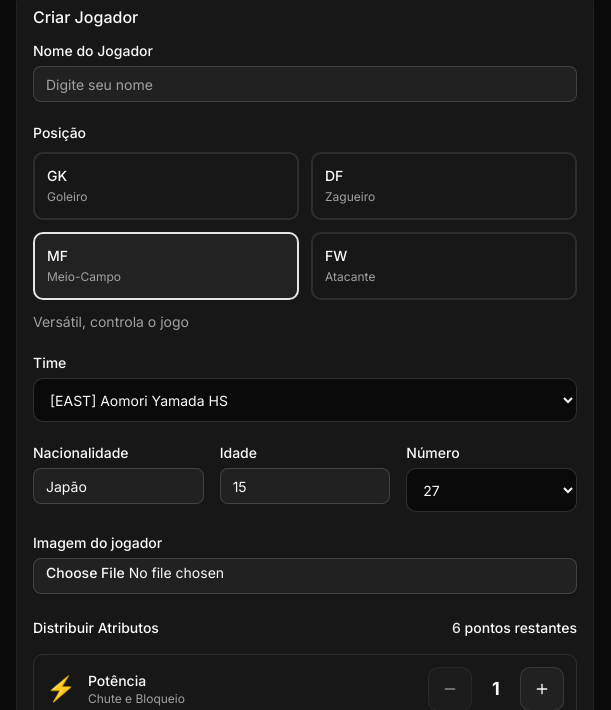
CriarJogadorForm › deve habilitar envio quando formulário for totalmente válido
Type "Davy" into the field labelled "Nome do Jogador" at (305, 84), box [33,66,577,102]
Click the button named "incrementar potência" at (542, 689), box [520,667,564,709]
(page scrolled)
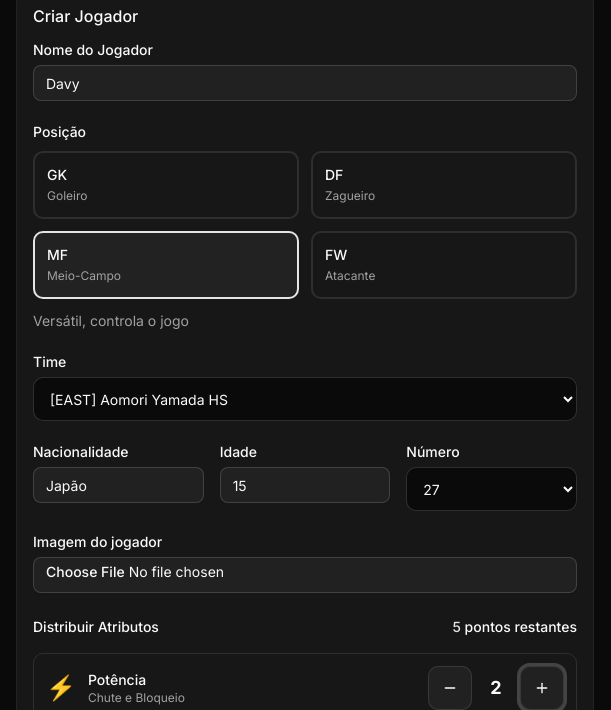
Click the button named "incrementar potência" at (542, 688), box [520,666,564,709]
(page scrolled)
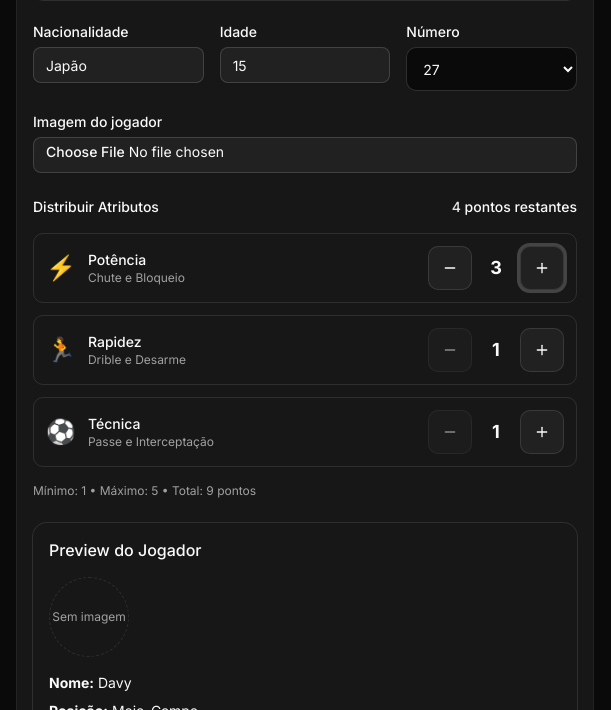
Click the button named "incrementar rapidez" at (542, 350), box [520,328,564,372]
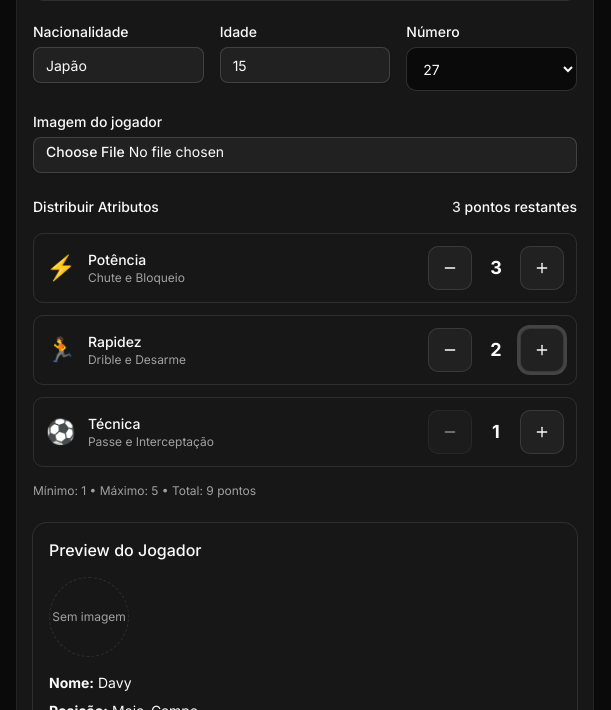
Click the button named "incrementar rapidez" at (542, 350), box [520,328,564,372]
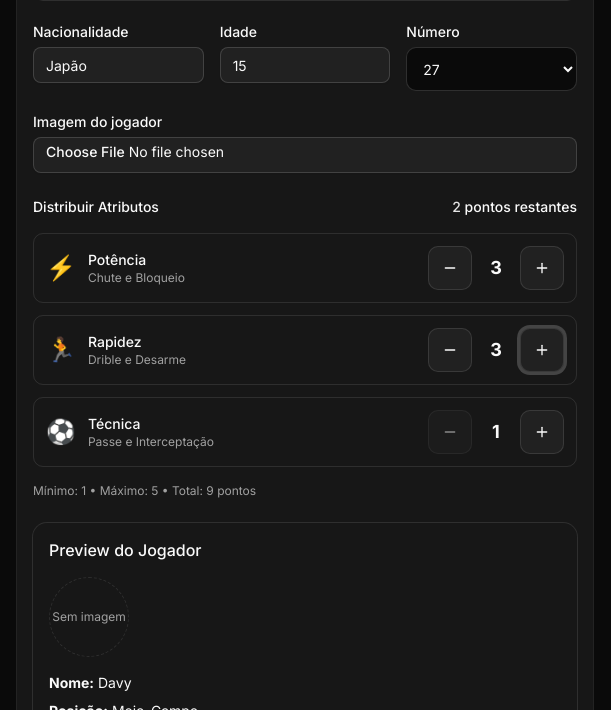
Click the button named "incrementar técnica" at (542, 432), box [520,410,564,454]
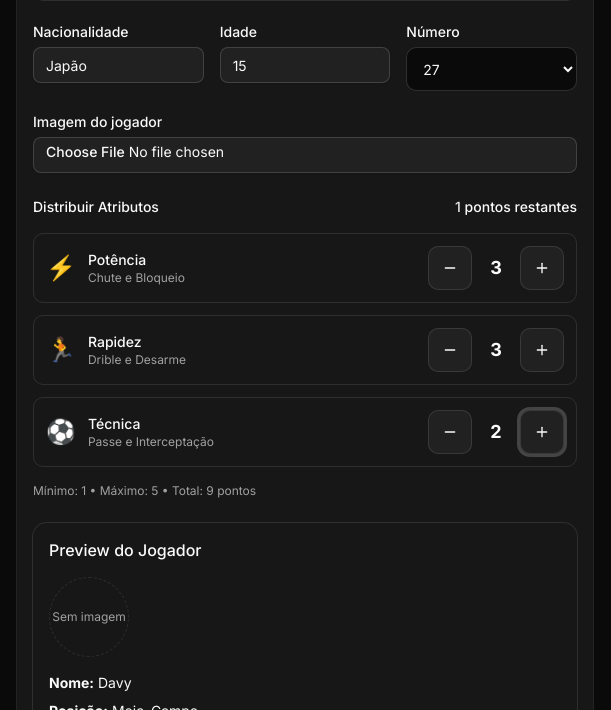
Click the button named "incrementar técnica" at (542, 432), box [520,410,564,454]
(page scrolled)
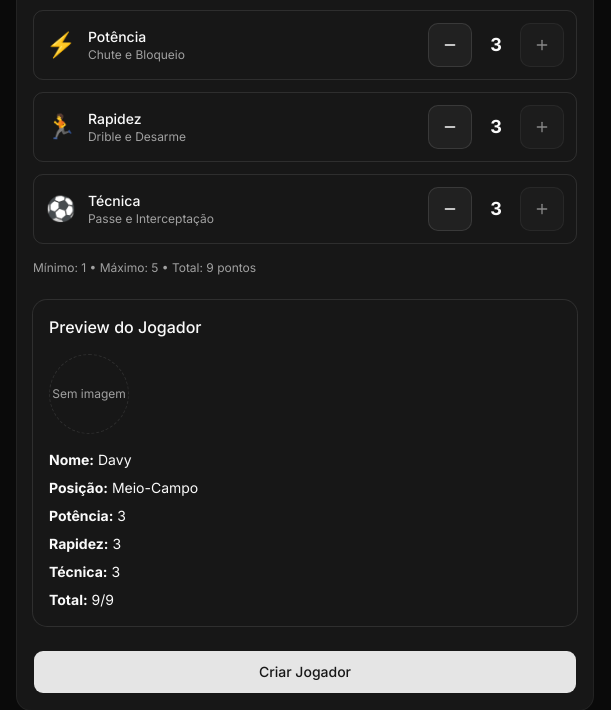
Now the button "Criar Jogador" is enabled, box [33,650,577,694]
